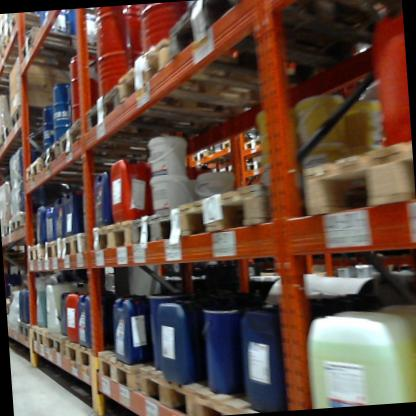pallet: (170, 0, 387, 108), (113, 34, 276, 132), (297, 130, 416, 223), (84, 83, 226, 150), (53, 106, 187, 166), (178, 179, 276, 241), (16, 22, 106, 80), (39, 136, 148, 183), (22, 151, 116, 193), (96, 343, 160, 402), (141, 362, 206, 416), (189, 378, 274, 414), (129, 204, 182, 252), (91, 212, 136, 256), (7, 14, 58, 51), (5, 104, 59, 136), (0, 120, 45, 155), (0, 34, 34, 72), (57, 226, 97, 257), (62, 337, 101, 368), (241, 131, 283, 156), (28, 321, 56, 351), (43, 327, 71, 357), (0, 58, 27, 88), (239, 155, 274, 178), (41, 233, 65, 265), (217, 132, 238, 160), (8, 210, 31, 235), (24, 239, 45, 264), (18, 315, 32, 339), (392, 261, 416, 275), (190, 146, 208, 164), (0, 136, 9, 159)
